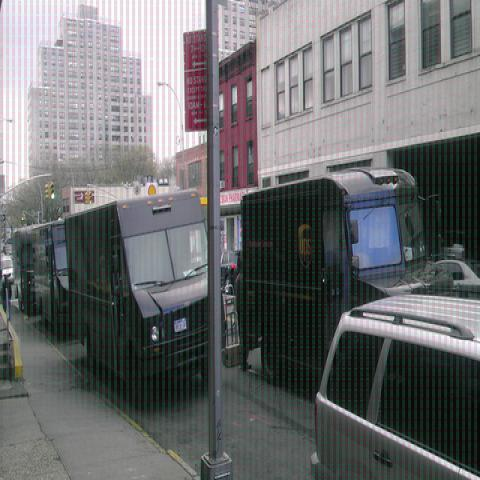car: (310, 293, 480, 479), (433, 257, 478, 289), (0, 253, 13, 282)
truck: (239, 164, 454, 402), (64, 187, 209, 403), (32, 222, 69, 336), (12, 225, 38, 313)
